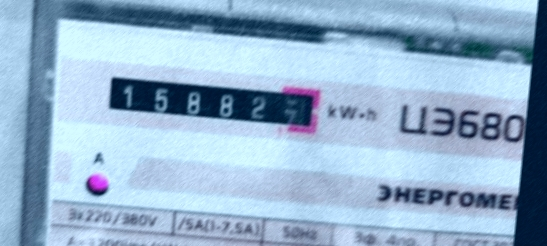1: (119, 82, 136, 109)
2: (249, 94, 266, 119)
5: (151, 85, 170, 112)
7: (282, 105, 297, 125)
8: (184, 89, 203, 117), (217, 91, 235, 118)
screen: (92, 59, 330, 145)
